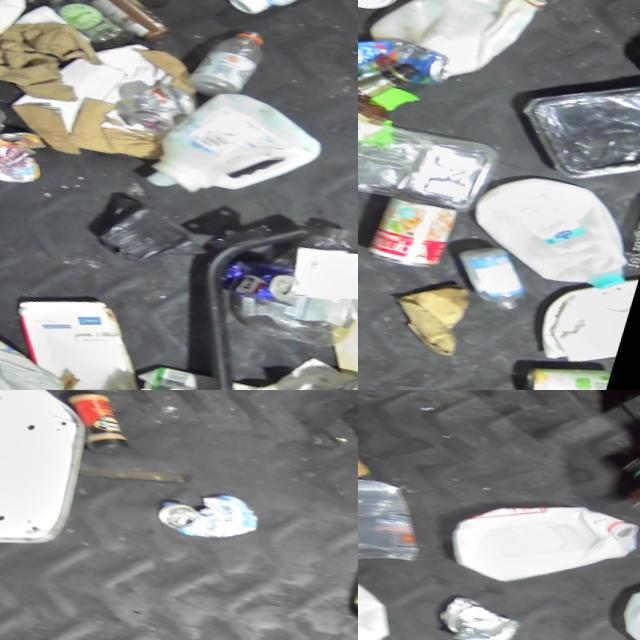can: (149, 474, 279, 557), (376, 199, 468, 275), (358, 30, 464, 91), (224, 253, 317, 312), (533, 361, 624, 390), (358, 0, 416, 17)
milk_jug: (149, 75, 340, 217), (450, 480, 640, 609), (468, 169, 640, 307), (385, 0, 557, 73), (0, 0, 55, 60)
